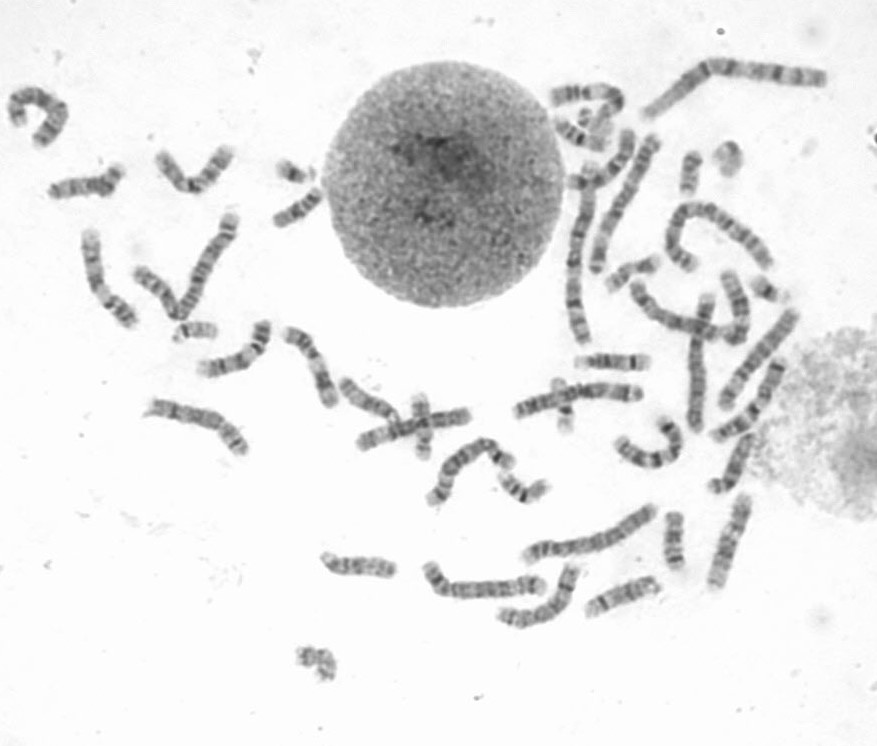chromosomes: (581, 129, 674, 288), (635, 57, 840, 129), (128, 207, 244, 320), (715, 301, 805, 418), (519, 501, 668, 567), (659, 197, 777, 278), (68, 224, 143, 340), (706, 352, 796, 448), (422, 434, 518, 516), (563, 161, 604, 353), (137, 394, 256, 460), (623, 276, 730, 345), (348, 404, 477, 457), (417, 557, 556, 605), (702, 485, 761, 598), (150, 133, 246, 201), (493, 560, 585, 630), (502, 380, 648, 424), (556, 124, 641, 198), (189, 314, 279, 383), (282, 323, 349, 414), (684, 289, 720, 439), (7, 74, 77, 151), (606, 408, 688, 473), (45, 159, 138, 213), (576, 575, 672, 623), (547, 73, 631, 126), (706, 430, 765, 498), (339, 374, 405, 432), (316, 547, 400, 587), (265, 185, 328, 238), (597, 251, 668, 295), (552, 112, 615, 159), (718, 265, 752, 349), (288, 644, 345, 686), (571, 347, 658, 374), (410, 387, 440, 464), (270, 151, 327, 189), (714, 133, 751, 187), (495, 470, 551, 504), (664, 506, 691, 575), (748, 271, 794, 310), (166, 319, 221, 351), (677, 144, 706, 203), (574, 103, 619, 141), (549, 377, 577, 437)
